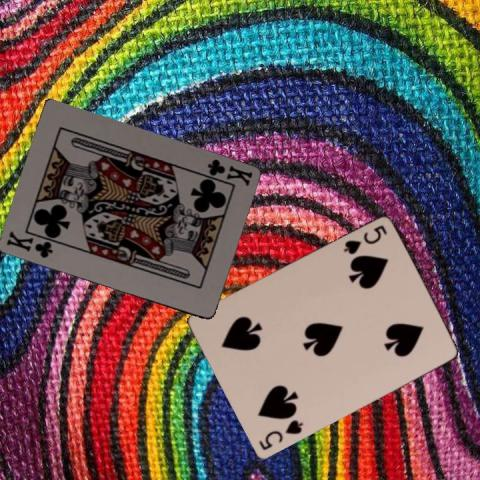5s: (255, 417, 305, 452), (340, 222, 389, 257)
Kc: (3, 228, 54, 260), (204, 156, 253, 188)
